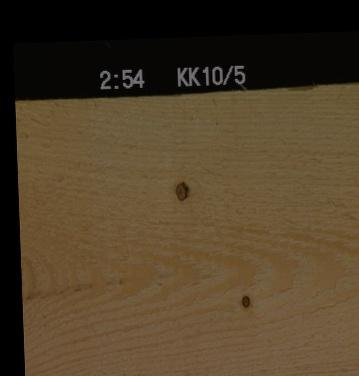dry_knot: (172, 178, 189, 201), (238, 292, 249, 307)
